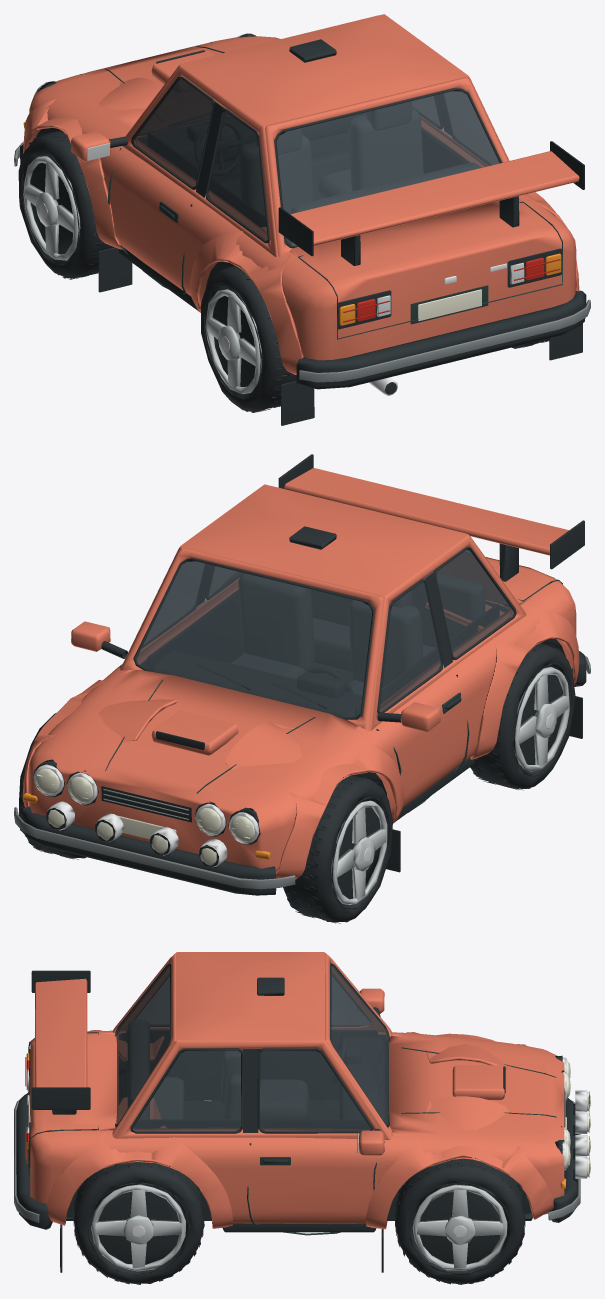
File: rally_lod2.fbx
3 renders of one model, top to bottom at view 1: azimuth 30°, elevation 25°; view 2: azimuth 150°, elevation 25°; view 3: azimuth 270°, elevation 25°, orthographic. The views are drawn at different scales.
Parts seen in each view (by area): view 1: Body, Wheel_RL_Mesh, Wheel_FL_Mesh; view 2: Body, Wheel_FL_Mesh, Wheel_RL_Mesh, Wheel_FR_Mesh; view 3: Body, Wheel_FR_Mesh, Wheel_RR_Mesh.
Part boxes in pixels (left/top/right/bottom): Body: left=14, top=14, right=590, bottom=425; Wheel_RL_Mesh: left=201, top=265, right=296, bottom=412; Wheel_FL_Mesh: left=18, top=130, right=114, bottom=279; Body: left=14, top=454, right=590, bottom=895; Wheel_FL_Mesh: left=283, top=775, right=392, bottom=923; Wheel_RL_Mesh: left=470, top=643, right=575, bottom=790; Wheel_FR_Mesh: left=18, top=713, right=86, bottom=859; Body: left=14, top=952, right=590, bottom=1272; Wheel_FR_Mesh: left=395, top=1158, right=525, bottom=1284; Wheel_RR_Mesh: left=73, top=1162, right=204, bottom=1284.
Bounding box in the file's own units: 236 × 168 × 372.
